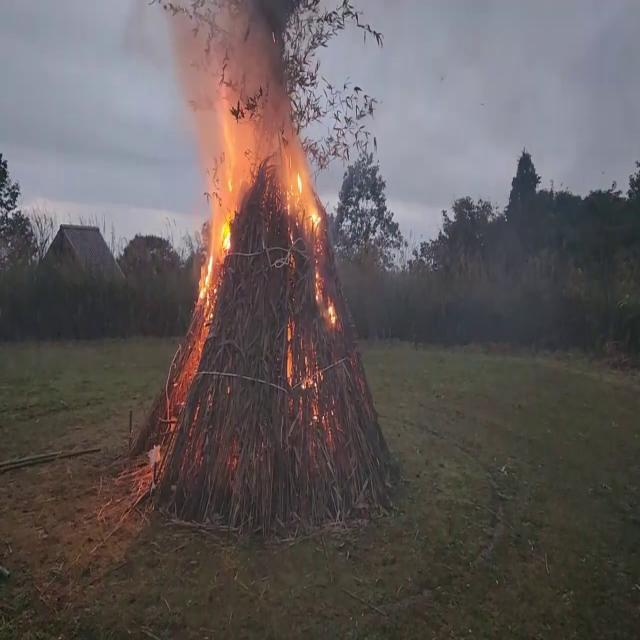Fire: (198, 105, 250, 288), (286, 155, 322, 233)
Smoke: (165, 1, 308, 174)
